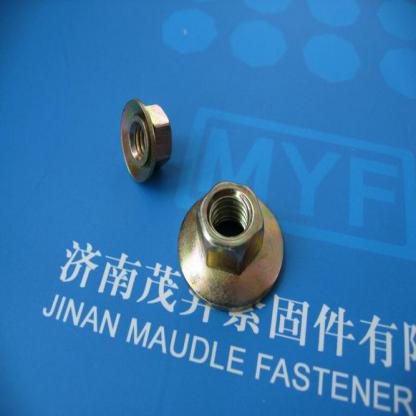FOD: (175, 180, 285, 308), (118, 95, 173, 189)
